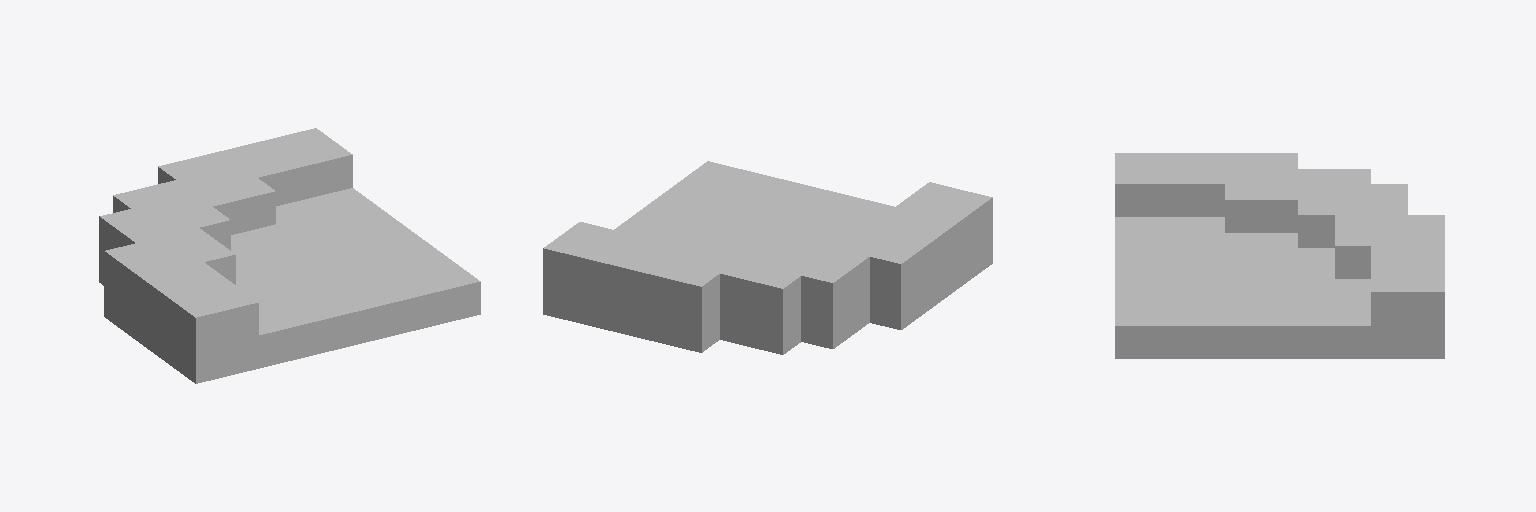
The model's file is 3D Voxel Park-12.obj.
3 views of the same model, side by side, from view 1: azimuth 30°, elevation 25°; view 2: azimuth 150°, elevation 25°; view 3: azimuth 270°, elevation 25° (orthographic).
Visible parts, largest first — view 1: object 1; view 2: object 1; view 3: object 1.
Boxes of the visible parts, box(x1,y1,x2,y2) form: object 1: box(99, 128, 480, 383); object 1: box(543, 161, 992, 354); object 1: box(1115, 153, 1444, 358).
Bounding box in the file's own units: 0.9 × 0.2 × 0.9.